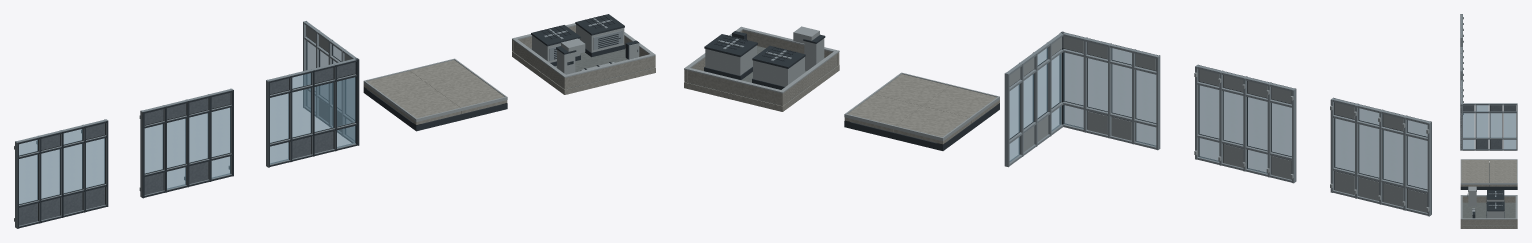
File: PROJECT_Z_Office_Tower_Facade_Module.glb
3 renders of one model, left to right at view 1: azimuth 30°, elevation 25°; view 2: azimuth 150°, elevation 25°; view 3: azimuth 270°, elevation 25°, orthographic. The views are drawn at different scales.
Parts seen in each view (by area): view 1: SM_M04_Repeatable_4x4m_FloorPlate__Concrete_Deck_Tile_1_1, SM_M04_Repeatable_4x4m_FloorPlate__Concrete_Deck_Tile_2_1, SM_M04_Repeatable_4x4m_FloorPlate__Concrete_Deck_Tile_1_2, SM_M04_Repeatable_4x4m_FloorPlate__Concrete_Deck_Tile_2_2, SM_M05_RooftopPlant_4x4m__Parapet_South, SM_M02_Alternate_4m_Facade__GLASS_Panel_L02_B03, SM_M01_Straight_4m_Facade__GLASS_Panel_L02_B02, SM_M01_Straight_4m_Facade__GLASS_Panel_L02_B03, SM_M02_Alternate_4m_Facade__GLASS_Panel_L02_B01, SM_M02_Alternate_4m_Facade__GLASS_Panel_L02_B04, SM_M03_Outside_Corner_4x4m__Front_GLASS_2_2, SM_M03_Outside_Corner_4x4m__Front_GLASS_2_3 (+30 smaller); view 2: SM_M04_Repeatable_4x4m_FloorPlate__Concrete_Deck_Tile_1_2, SM_M04_Repeatable_4x4m_FloorPlate__Concrete_Deck_Tile_2_2, SM_M04_Repeatable_4x4m_FloorPlate__Concrete_Deck_Tile_1_1, SM_M04_Repeatable_4x4m_FloorPlate__Concrete_Deck_Tile_2_1, SM_M05_RooftopPlant_4x4m__Parapet_North, SM_M05_RooftopPlant_4x4m__Roof_Deck_Structural, SM_M01_Straight_4m_Facade__GLASS_Panel_L02_B01, SM_M02_Alternate_4m_Facade__GLASS_Panel_L02_B02, SM_M02_Alternate_4m_Facade__GLASS_Panel_L02_B04, SM_M01_Straight_4m_Facade__GLASS_Panel_L02_B03, SM_M02_Alternate_4m_Facade__GLASS_Panel_L02_B01, SM_M01_Straight_4m_Facade__GLASS_Panel_L02_B02 (+39 smaller); view 3: SM_M05_RooftopPlant_4x4m__Roof_Membrane, SM_M04_Repeatable_4x4m_FloorPlate__Concrete_Deck_Tile_2_1, SM_M04_Repeatable_4x4m_FloorPlate__Concrete_Deck_Tile_2_2, SM_M05_RooftopPlant_4x4m__Parapet_East, SM_M04_Repeatable_4x4m_FloorPlate__Concrete_Deck_Tile_1_1, SM_M04_Repeatable_4x4m_FloorPlate__Concrete_Deck_Tile_1_2, SM_M03_Outside_Corner_4x4m__Return_GLASS_2_2, SM_M03_Outside_Corner_4x4m__Return_GLASS_2_3, SM_M03_Outside_Corner_4x4m__Return_GLASS_2_4, SM_M03_Outside_Corner_4x4m__Return_GLASS_2_1, SM_M05_RooftopPlant_4x4m__Parapet_West, SM_M05_RooftopPlant_4x4m__AHU2_Top_Cowling (+28 smaller).
Part boxes in pixels (left/top/right/bottom): SM_M04_Repeatable_4x4m_FloorPlate__Concrete_Deck_Tile_1_1: left=390, top=89, right=461, bottom=124; SM_M04_Repeatable_4x4m_FloorPlate__Concrete_Deck_Tile_2_1: left=436, top=79, right=507, bottom=113; SM_M04_Repeatable_4x4m_FloorPlate__Concrete_Deck_Tile_1_2: left=363, top=71, right=434, bottom=105; SM_M04_Repeatable_4x4m_FloorPlate__Concrete_Deck_Tile_2_2: left=410, top=60, right=479, bottom=89; SM_M05_RooftopPlant_4x4m__Parapet_South: left=563, top=56, right=655, bottom=89; SM_M02_Alternate_4m_Facade__GLASS_Panel_L02_B03: left=189, top=113, right=208, bottom=162; SM_M01_Straight_4m_Facade__GLASS_Panel_L02_B02: left=41, top=149, right=60, bottom=198; SM_M01_Straight_4m_Facade__GLASS_Panel_L02_B03: left=63, top=144, right=82, bottom=193; SM_M02_Alternate_4m_Facade__GLASS_Panel_L02_B01: left=144, top=124, right=163, bottom=173; SM_M02_Alternate_4m_Facade__GLASS_Panel_L02_B04: left=211, top=108, right=230, bottom=157; SM_M03_Outside_Corner_4x4m__Front_GLASS_2_2: left=292, top=88, right=311, bottom=137; SM_M03_Outside_Corner_4x4m__Front_GLASS_2_3: left=314, top=82, right=333, bottom=131; SM_M04_Repeatable_4x4m_FloorPlate__Concrete_Deck_Tile_1_2: left=894, top=106, right=971, bottom=144; SM_M04_Repeatable_4x4m_FloorPlate__Concrete_Deck_Tile_2_2: left=844, top=94, right=921, bottom=132; SM_M04_Repeatable_4x4m_FloorPlate__Concrete_Deck_Tile_1_1: left=923, top=86, right=999, bottom=123; SM_M04_Repeatable_4x4m_FloorPlate__Concrete_Deck_Tile_2_1: left=874, top=74, right=949, bottom=105; SM_M05_RooftopPlant_4x4m__Parapet_North: left=684, top=70, right=784, bottom=105; SM_M05_RooftopPlant_4x4m__Roof_Deck_Structural: left=684, top=64, right=839, bottom=111; SM_M01_Straight_4m_Facade__GLASS_Panel_L02_B01: left=1407, top=136, right=1427, bottom=189; SM_M02_Alternate_4m_Facade__GLASS_Panel_L02_B02: left=1247, top=97, right=1267, bottom=150; SM_M02_Alternate_4m_Facade__GLASS_Panel_L02_B04: left=1199, top=85, right=1219, bottom=138; SM_M01_Straight_4m_Facade__GLASS_Panel_L02_B03: left=1359, top=124, right=1379, bottom=177; SM_M02_Alternate_4m_Facade__GLASS_Panel_L02_B01: left=1271, top=103, right=1291, bottom=156; SM_M01_Straight_4m_Facade__GLASS_Panel_L02_B02: left=1383, top=130, right=1403, bottom=183; SM_M05_RooftopPlant_4x4m__Roof_Membrane: left=1462, top=202, right=1515, bottom=225; SM_M04_Repeatable_4x4m_FloorPlate__Concrete_Deck_Tile_2_1: left=1460, top=171, right=1488, bottom=186; SM_M04_Repeatable_4x4m_FloorPlate__Concrete_Deck_Tile_2_2: left=1489, top=171, right=1517, bottom=186; SM_M05_RooftopPlant_4x4m__Parapet_East: left=1460, top=219, right=1517, bottom=225; SM_M04_Repeatable_4x4m_FloorPlate__Concrete_Deck_Tile_1_1: left=1461, top=160, right=1488, bottom=171; SM_M04_Repeatable_4x4m_FloorPlate__Concrete_Deck_Tile_1_2: left=1489, top=160, right=1516, bottom=171; SM_M03_Outside_Corner_4x4m__Return_GLASS_2_2: left=1476, top=113, right=1488, bottom=137; SM_M03_Outside_Corner_4x4m__Return_GLASS_2_3: left=1490, top=113, right=1501, bottom=137; SM_M03_Outside_Corner_4x4m__Return_GLASS_2_4: left=1504, top=113, right=1515, bottom=137; SM_M03_Outside_Corner_4x4m__Return_GLASS_2_1: left=1463, top=113, right=1474, bottom=137; SM_M05_RooftopPlant_4x4m__Parapet_West: left=1462, top=196, right=1515, bottom=202; SM_M05_RooftopPlant_4x4m__AHU2_Top_Cowling: left=1487, top=201, right=1504, bottom=211.
Bounding box in the file's own units: 28 × 3.6 × 4.02.
9 materials, 9 textured.
